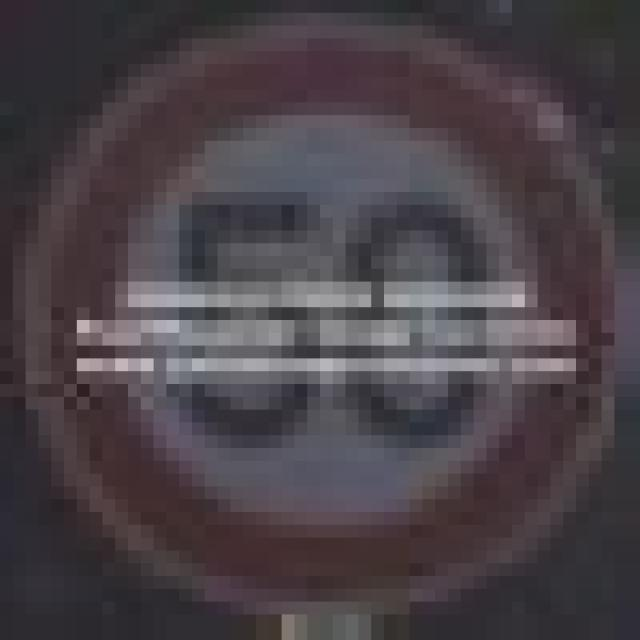speed_limit_30: (26, 26, 588, 576)
